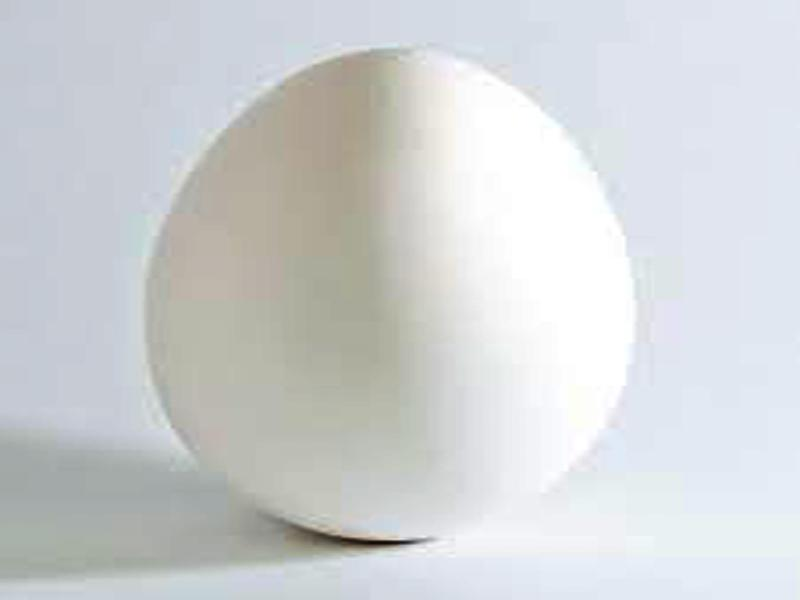Eggs: (149, 46, 633, 541)
